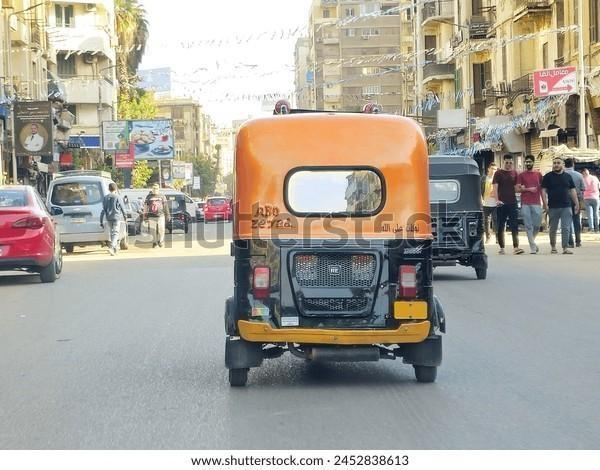keke: (228, 114, 450, 404), (427, 156, 489, 284), (0, 179, 65, 300)
